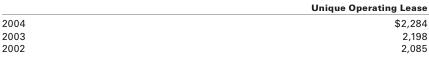table: (0, 0, 426, 53)
table column: (167, 0, 426, 53), (0, 0, 167, 53)
table column header: (0, 0, 426, 14)
table row: (0, 0, 426, 14), (0, 14, 426, 28), (0, 28, 426, 41), (0, 41, 426, 53)
